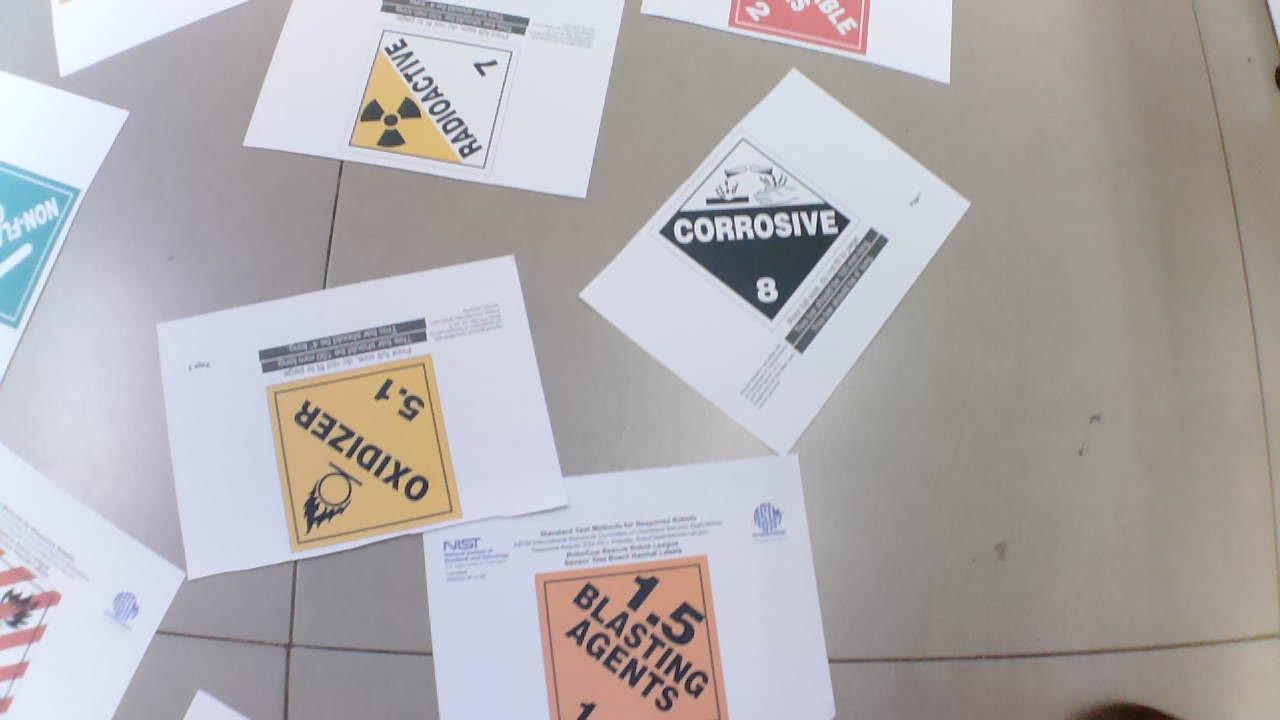corrosive: (667, 137, 855, 329)
explosive: (520, 556, 759, 720)
flammable: (718, 1, 882, 62)
oxidizer: (252, 350, 466, 541)
radioactive: (350, 26, 519, 172)
